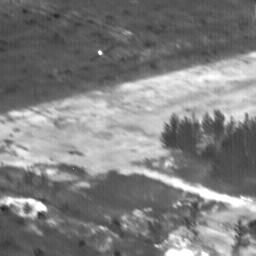aircraft: (100, 52, 102, 54)
